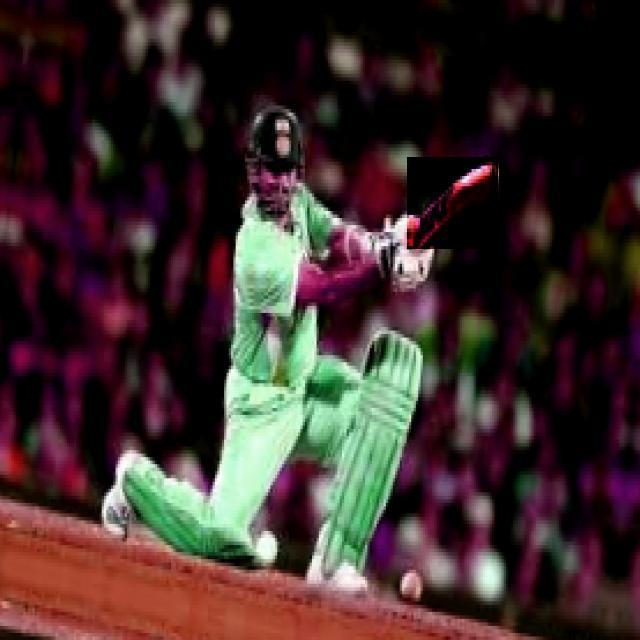bat: (409, 158, 507, 248)
toe: (485, 164, 493, 199)
